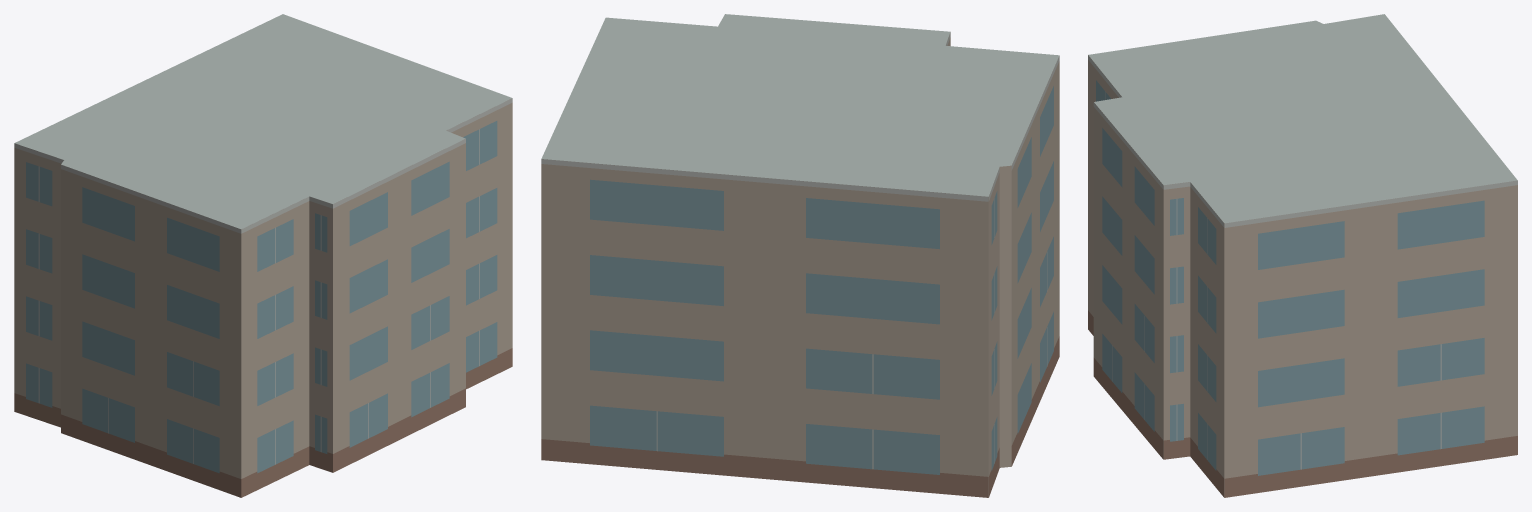
The model's file is survey-upis-32549021.glb.
3 views of the same model, side by side, from view 1: azimuth 30°, elevation 25°; view 2: azimuth 150°, elevation 25°; view 3: azimuth 270°, elevation 25° (orthographic). The views are drawn at different scales.
Parts seen in each view (by area): view 1: survey-upis-32549021.tmp; view 2: survey-upis-32549021.tmp; view 3: survey-upis-32549021.tmp.
Boxes of the visible parts, <box> form: survey-upis-32549021.tmp: <box>14,14,512,497</box>; survey-upis-32549021.tmp: <box>541,14,1059,497</box>; survey-upis-32549021.tmp: <box>1088,14,1517,497</box>.
Size of the model in its own units: 23.99 by 14.65 by 20.8.
